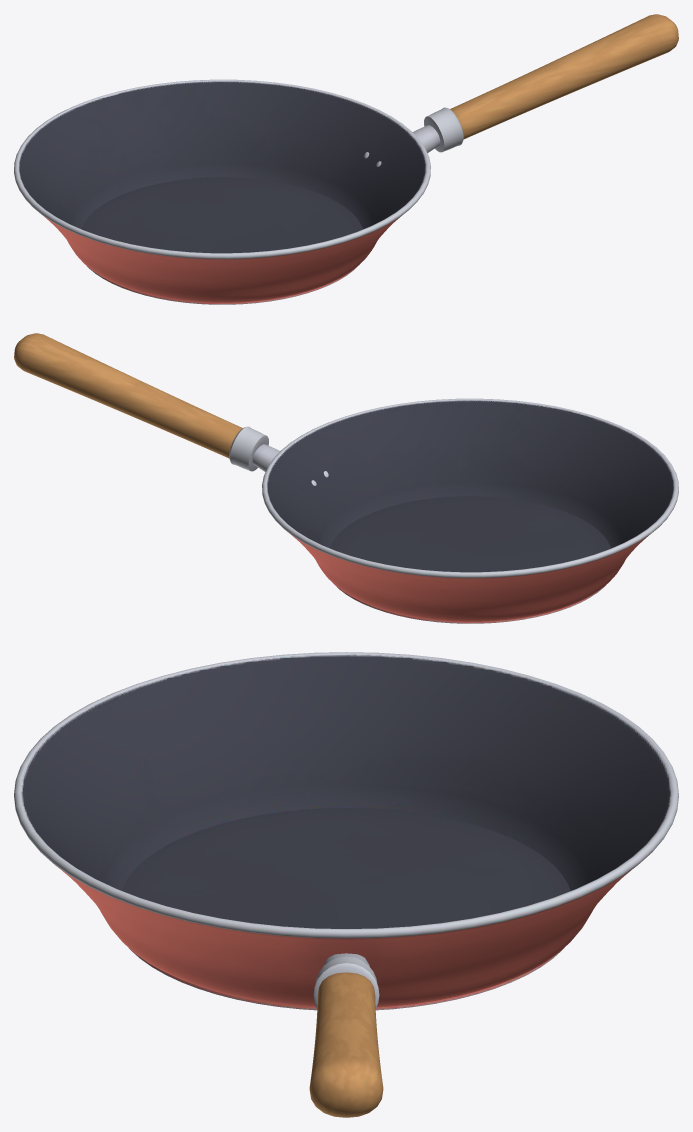
The model's file is frying-pan.fbx.
The picture shows the model from 3 angles, top to bottom: view 1: azimuth 30°, elevation 25°; view 2: azimuth 150°, elevation 25°; view 3: azimuth 270°, elevation 25°; orthographic projection. The views are drawn at different scales.
Parts seen in each view (by area): view 1: frying-pan_body; view 2: frying-pan_body; view 3: frying-pan_body.
Part boxes in pixels (x1=…): frying-pan_body: x1=14, y1=14, x2=678, y2=304; frying-pan_body: x1=14, y1=333, x2=678, y2=623; frying-pan_body: x1=14, y1=652, x2=678, y2=1117.
Size of the model in its own units: 0.4944 by 0.089 by 0.2821.
1 material, 1 textured.
